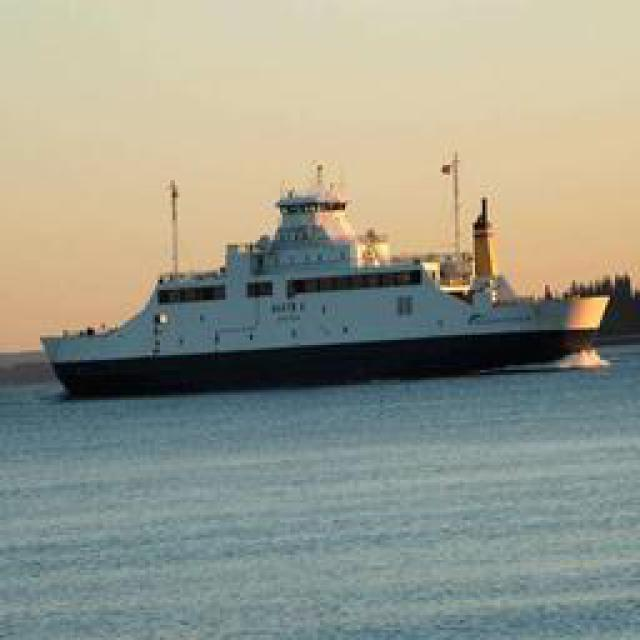Ship: (31, 151, 614, 399)
